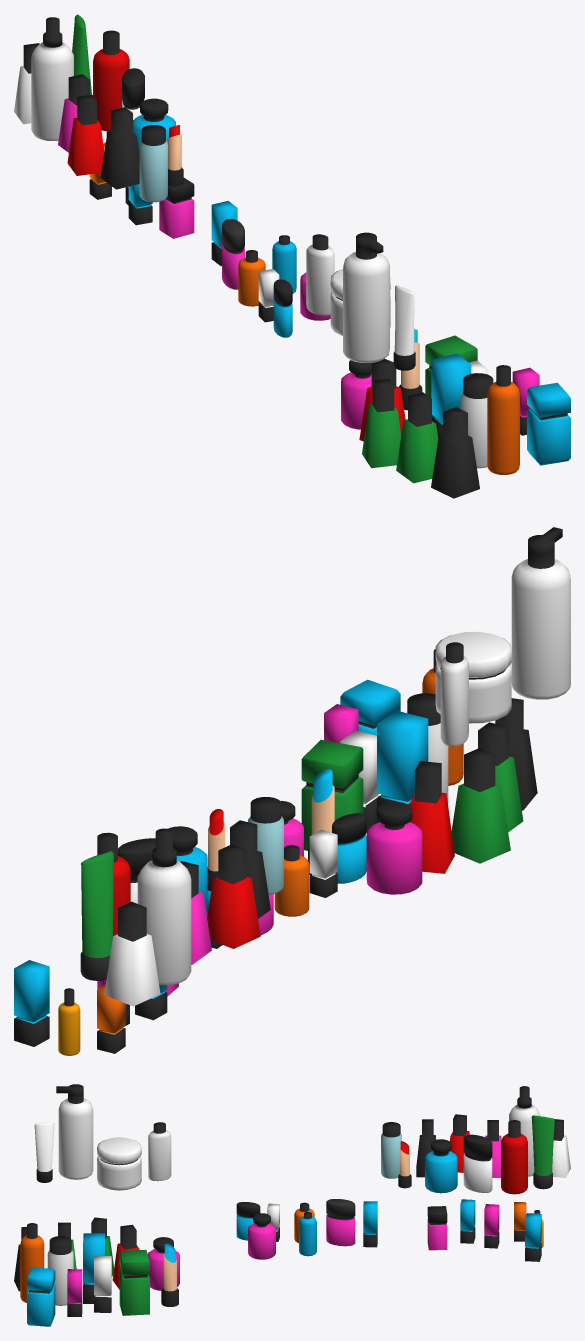
Rendered from Cosmetic.fbx.
3 views of the same model, one above another, from view 1: azimuth 30°, elevation 25°; view 2: azimuth 150°, elevation 25°; view 3: azimuth 270°, elevation 25° (orthographic). The views are drawn at different scales.
Visible parts, largest first — view 1: Cosmetic.018, Cosmetic.022, Cosmetic.017, Cosmetic.025, Cosmetic.003, Cosmetic.002, Cosmetic.009, Cosmetic.005, Cosmetic.038, Cosmetic.004, Cosmetic.024, Cosmetic.015 (+23 smaller); view 2: Cosmetic.018, Cosmetic.022, Cosmetic.009, Cosmetic.040, Cosmetic.021, Cosmetic.007, Cosmetic.004, Cosmetic.015, Cosmetic.023, Cosmetic.010, Cosmetic.008, Cosmetic.001 (+23 smaller); view 3: Cosmetic.018, Cosmetic.021, Cosmetic.010, Cosmetic.038, Cosmetic.032, Cosmetic.017, Cosmetic.033, Cosmetic.023, Cosmetic.019, Cosmetic.036, Cosmetic.041, Cosmetic.025 (+24 smaller).
Boxes of the visible parts, <box> form: Cosmetic.018: <box>343,232,389,362</box>; Cosmetic.022: <box>31,17,73,140</box>; Cosmetic.017: <box>527,382,570,465</box>; Cosmetic.025: <box>487,365,519,474</box>; Cosmetic.003: <box>431,407,479,498</box>; Cosmetic.002: <box>396,392,438,483</box>; Cosmetic.009: <box>362,378,401,468</box>; Cosmetic.005: <box>100,107,139,189</box>; Cosmetic.038: <box>93,30,129,131</box>; Cosmetic.004: <box>67,95,104,175</box>; Cosmetic.024: <box>139,125,167,202</box>; Cosmetic.015: <box>431,353,471,437</box>; Cosmetic.018: <box>511,527,570,699</box>; Cosmetic.022: <box>137,828,191,985</box>; Cosmetic.009: <box>451,748,510,863</box>; Cosmetic.040: <box>366,801,422,894</box>; Cosmetic.021: <box>435,631,511,723</box>; Cosmetic.007: <box>104,901,160,1006</box>; Cosmetic.004: <box>207,844,260,948</box>; Cosmetic.015: <box>377,710,428,822</box>; Cosmetic.023: <box>80,851,113,980</box>; Cosmetic.010: <box>301,739,363,850</box>; Cosmetic.008: <box>410,761,454,873</box>; Cosmetic.001: <box>14,960,49,1046</box>; Cosmetic.018: <box>56,1084,93,1179</box>; Cosmetic.021: <box>97,1137,141,1190</box>; Cosmetic.010: <box>119,1249,149,1315</box>; Cosmetic.038: <box>501,1120,527,1194</box>; Cosmetic.032: <box>463,1134,492,1192</box>; Cosmetic.017: <box>27,1267,55,1326</box>; Cosmetic.033: <box>425,1139,457,1193</box>; Cosmetic.023: <box>531,1115,554,1189</box>; Cosmetic.019: <box>326,1199,355,1246</box>; Cosmetic.036: <box>47,1236,73,1305</box>; Cosmetic.041: <box>148,1122,171,1181</box>; Cosmetic.025: <box>20,1223,44,1302</box>.
Bounding box in the file's own units: 31.14 × 34.33 × 97.78.
Materials: 1 (1 with a texture image).
